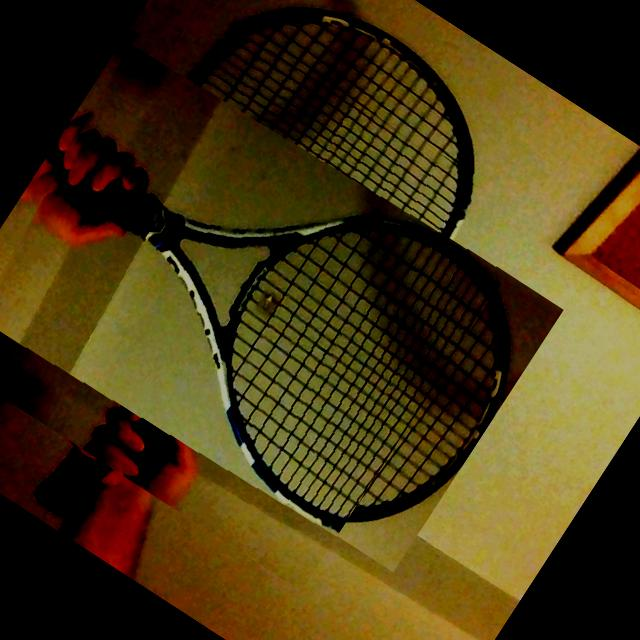TennisRacket: (0, 0, 542, 590)
